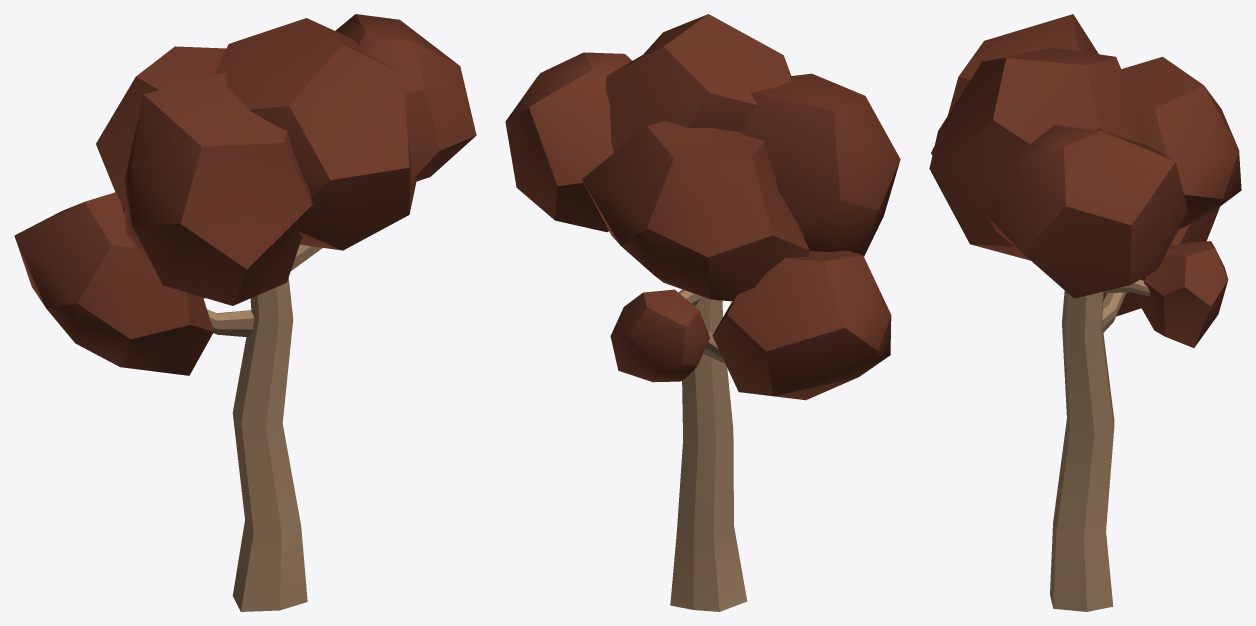
File: AutumnTreeRed_Mesh.fbx
The picture shows the model from 3 angles, left to right: view 1: azimuth 30°, elevation 25°; view 2: azimuth 150°, elevation 25°; view 3: azimuth 270°, elevation 25°; orthographic projection. The views are drawn at different scales.
Visible parts, largest first — view 1: AutumnTreeRed_Mesh; view 2: AutumnTreeRed_Mesh; view 3: AutumnTreeRed_Mesh.
Boxes of the visible parts, bbox=[...] form: AutumnTreeRed_Mesh: bbox=[14, 14, 476, 611]; AutumnTreeRed_Mesh: bbox=[505, 14, 900, 611]; AutumnTreeRed_Mesh: bbox=[929, 14, 1241, 611].
Bounding box in the file's own units: 400 × 569 × 289.
